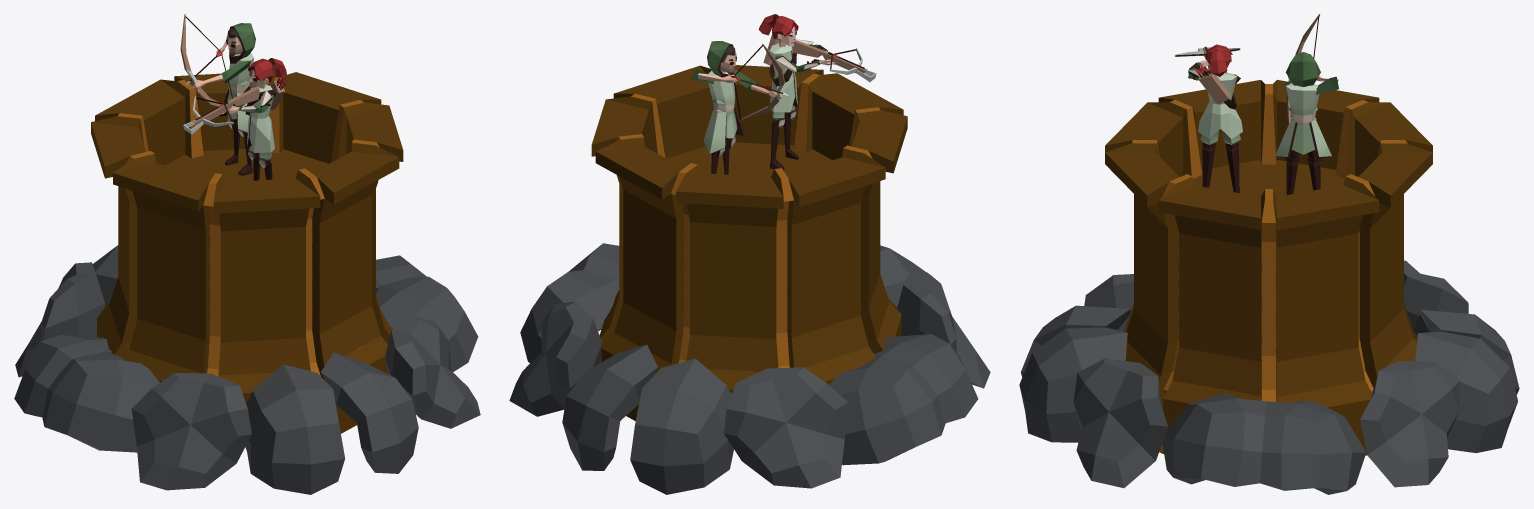
The model's file is Archer Tower.fbx.
3 renders of one model, left to right at view 1: azimuth 30°, elevation 25°; view 2: azimuth 150°, elevation 25°; view 3: azimuth 270°, elevation 25°, orthographic. The views are drawn at different scales.
Parts seen in each view (by area): view 1: Archer Tower, rock, Archer_f_attack_Fin, Archer_m_attack_Fin; view 2: Archer Tower, rock, Archer_f_attack_Fin, Archer_m_attack_Fin; view 3: Archer Tower, rock, Archer_m_attack_Fin, Archer_f_attack_Fin.
Boxes of the visible parts, x1,y1,x2,y2 form: Archer Tower: (91, 71, 403, 433); rock: (14, 245, 480, 494); Archer_f_attack_Fin: (183, 58, 286, 180); Archer_m_attack_Fin: (180, 14, 255, 175); Archer Tower: (591, 65, 907, 420); rock: (509, 243, 990, 494); Archer_f_attack_Fin: (758, 14, 876, 169); Archer_m_attack_Fin: (690, 41, 788, 174); Archer Tower: (1105, 79, 1432, 455); rock: (1019, 260, 1519, 494); Archer_m_attack_Fin: (1275, 14, 1338, 194); Archer_f_attack_Fin: (1174, 44, 1242, 193).
Size of the model in its own units: 257 by 225 by 261.
